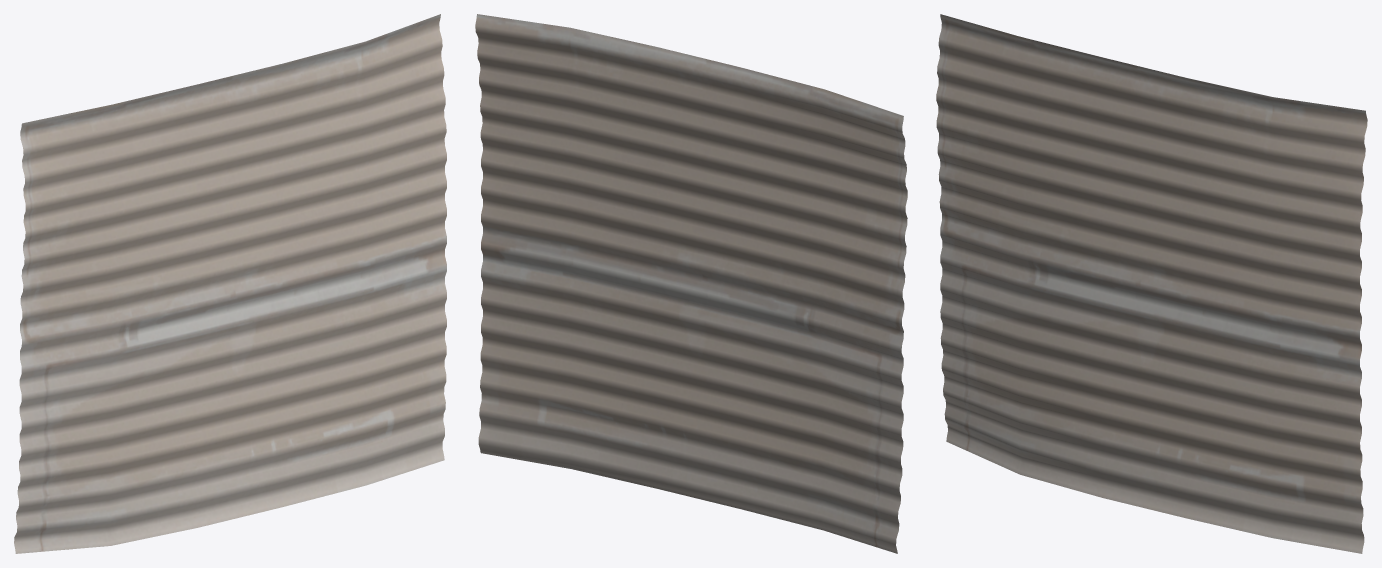
Rendered from props_2fort_corrugated_metal006.glb.
3 renders of one model, left to right at view 1: azimuth 30°, elevation 25°; view 2: azimuth 150°, elevation 25°; view 3: azimuth 330°, elevation 25°, orthographic.
Visible parts, largest first — view 1: models/props_2fort/corrugated_metal006; view 2: models/props_2fort/corrugated_metal006; view 3: models/props_2fort/corrugated_metal006.
Boxes of the visible parts, box(x1,y1,x2,y2) form: models/props_2fort/corrugated_metal006: box(14, 14, 446, 553); models/props_2fort/corrugated_metal006: box(475, 14, 907, 553); models/props_2fort/corrugated_metal006: box(936, 14, 1367, 553).
Size of the model in its own units: 128 by 128 by 7.52.
1 material, 1 textured.
